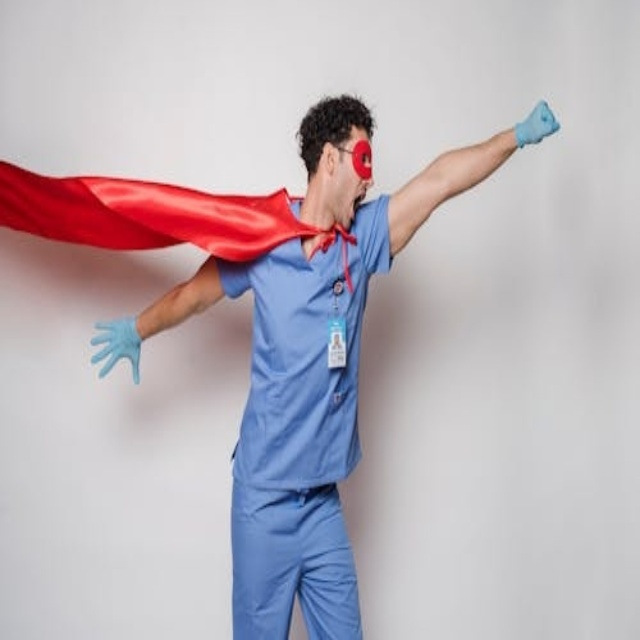Guantes: (88, 314, 142, 383), (515, 100, 562, 149)
Sin_mascara: (335, 185, 369, 229)
